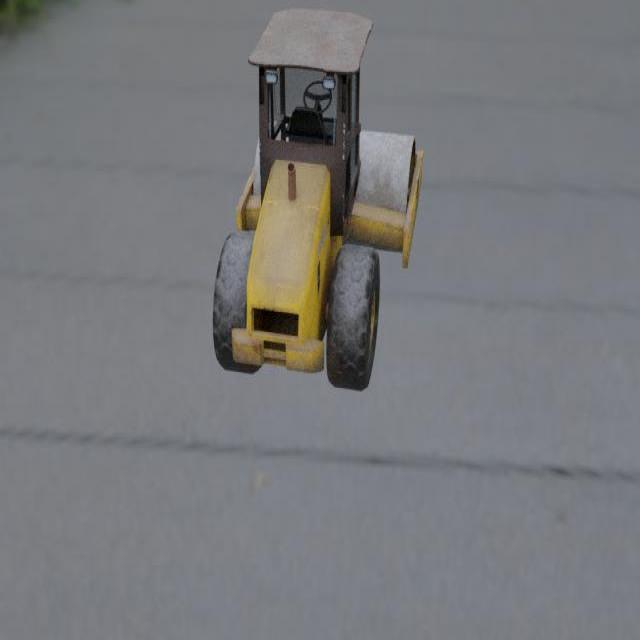Roller: (212, 7, 423, 390)
